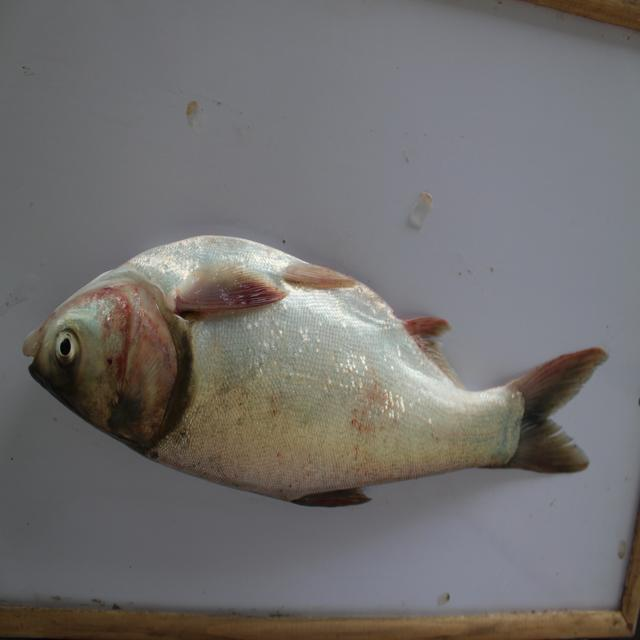SilverCarp: (13, 243, 616, 514)
